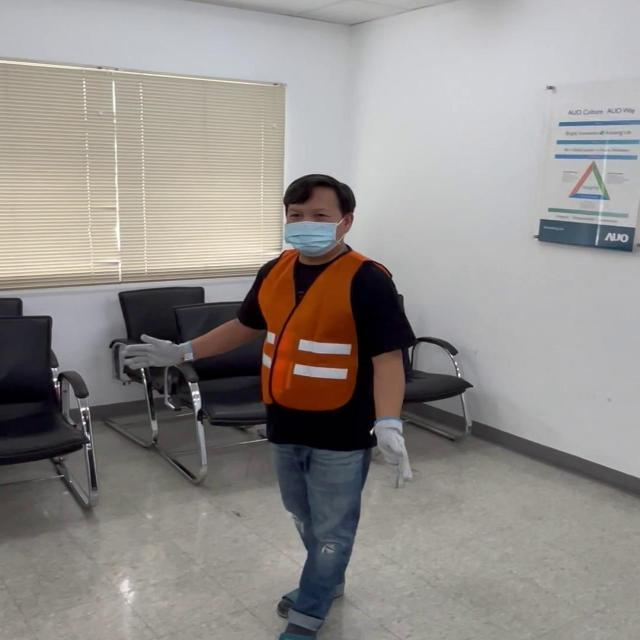gloved_hand: (364, 412, 418, 485), (126, 328, 181, 376)
